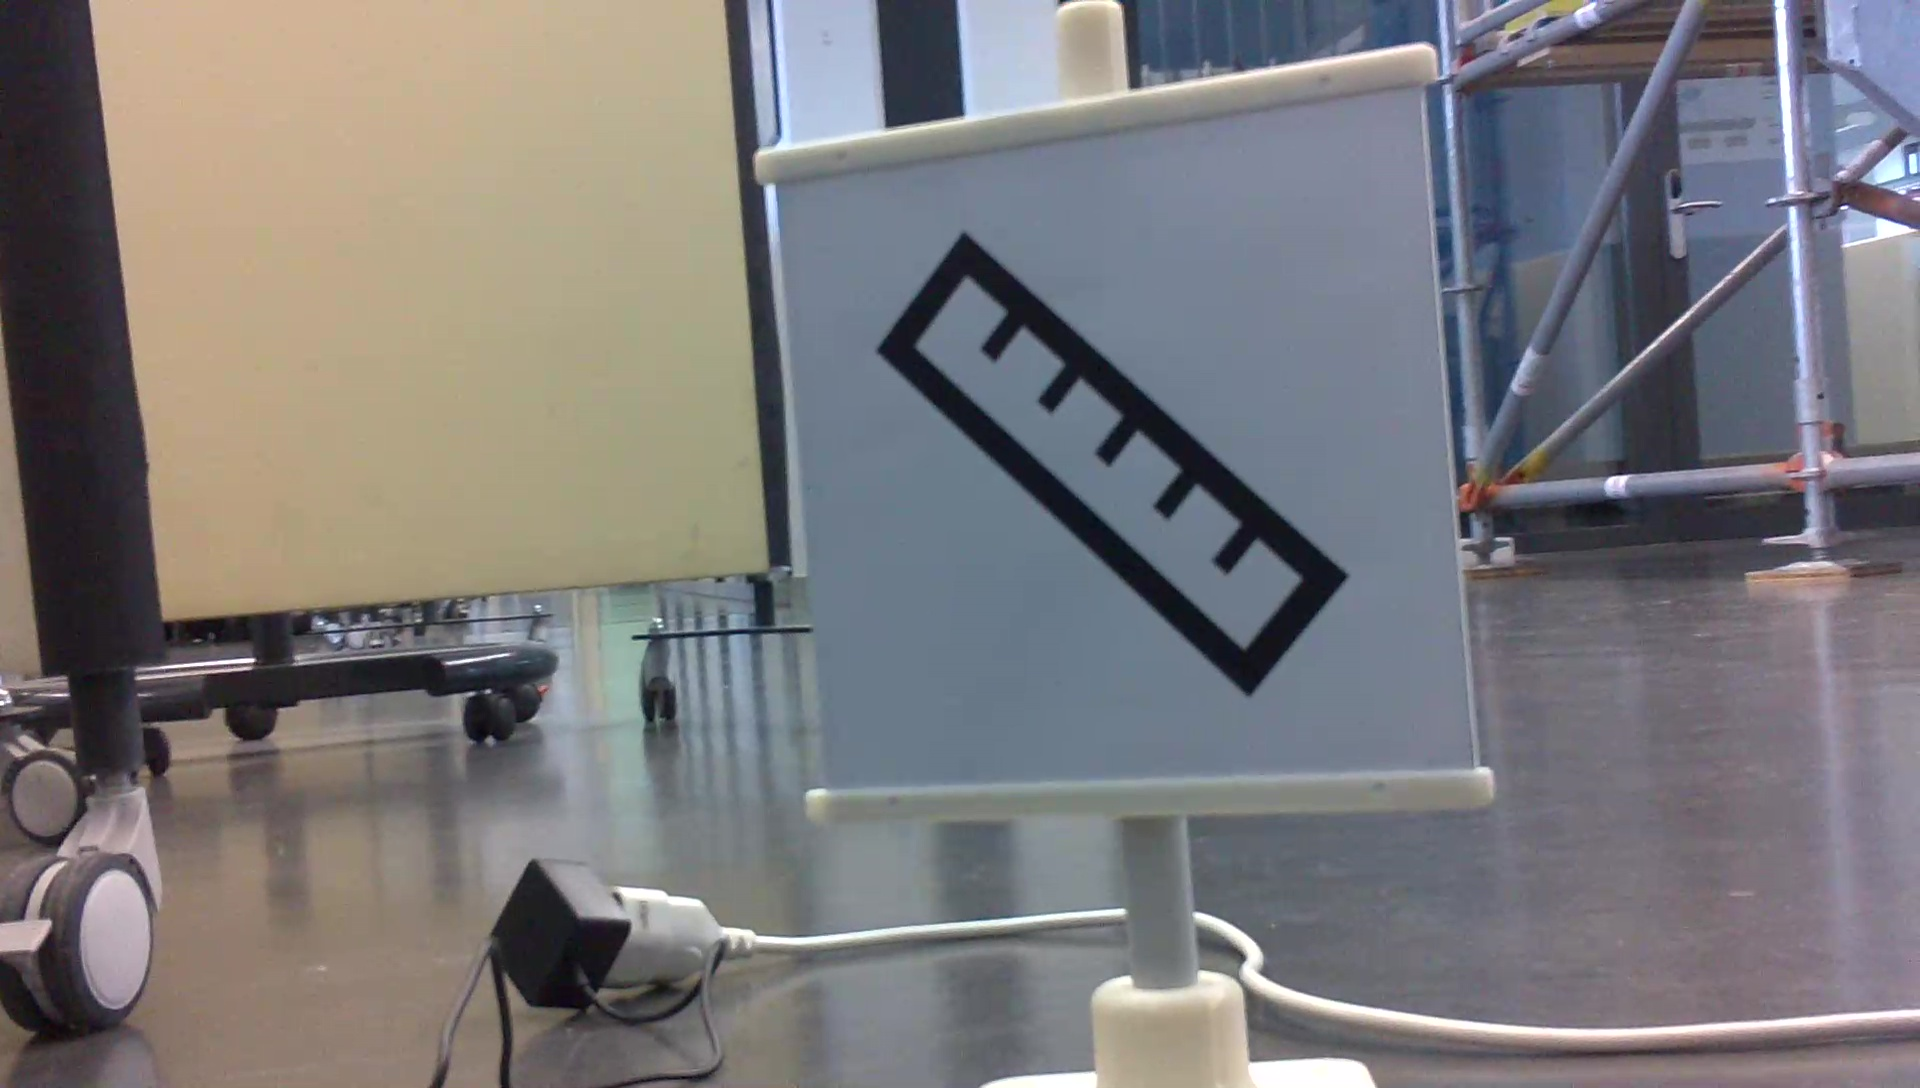ruler: (872, 231, 1348, 695)
